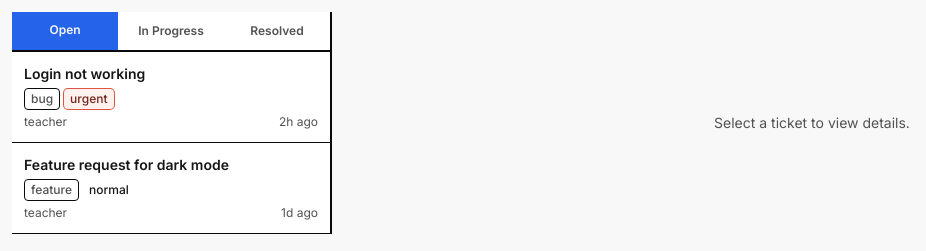
TicketInbox › shows empty state when no tickets match the tab
What coordinates should you click on to do the following:
click the tab "In Progress"
I would click on:
 (171, 31)
Its box is 118,12 -> 224,50.
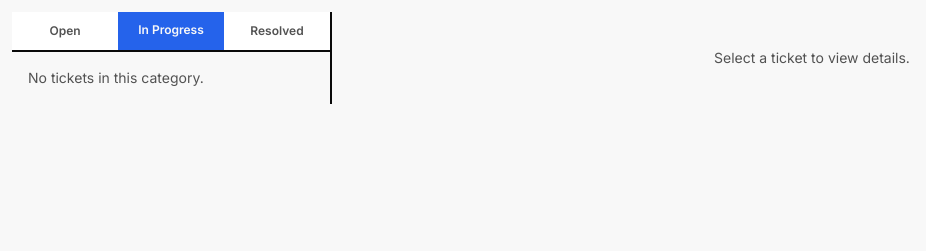
Check: the text "No tickets in this category." is shown, box 28,69 -> 204,86
